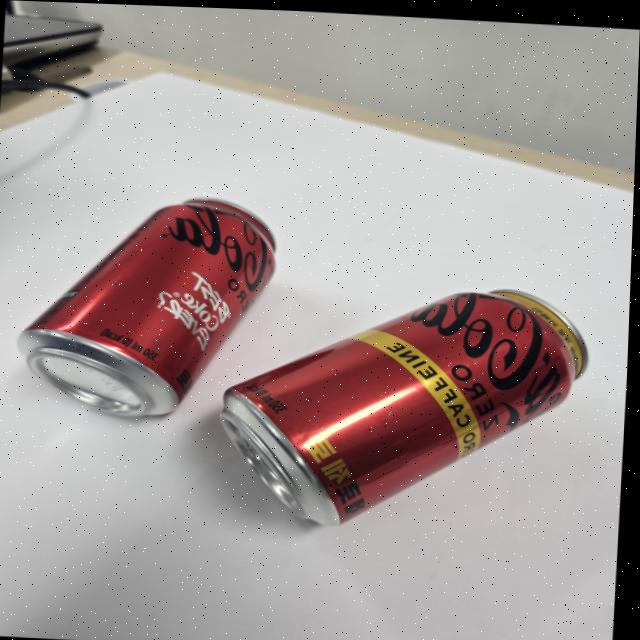can_coke_decaf: (214, 287, 591, 526)
can_coke_zero: (28, 196, 282, 414)
